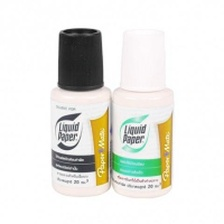correction_fluid: (107, 28, 176, 200), (48, 24, 112, 199)
